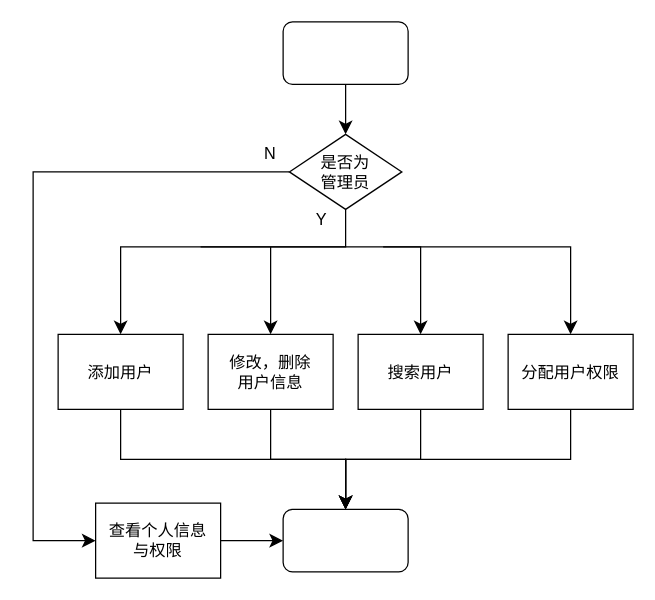
Some shapes in this 655 by 600 pixel diagram are drawn without their labels. Each missing label, with the centre of its shape:
开始: (x=345, y=52)
结束: (x=345, y=540)
